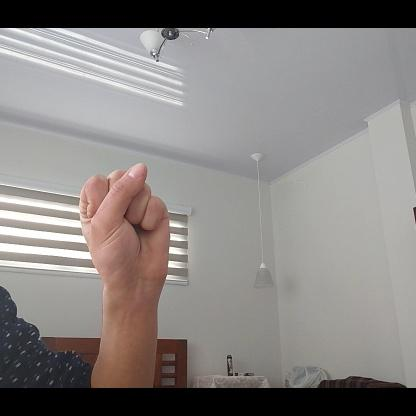S: (78, 160, 173, 289)
